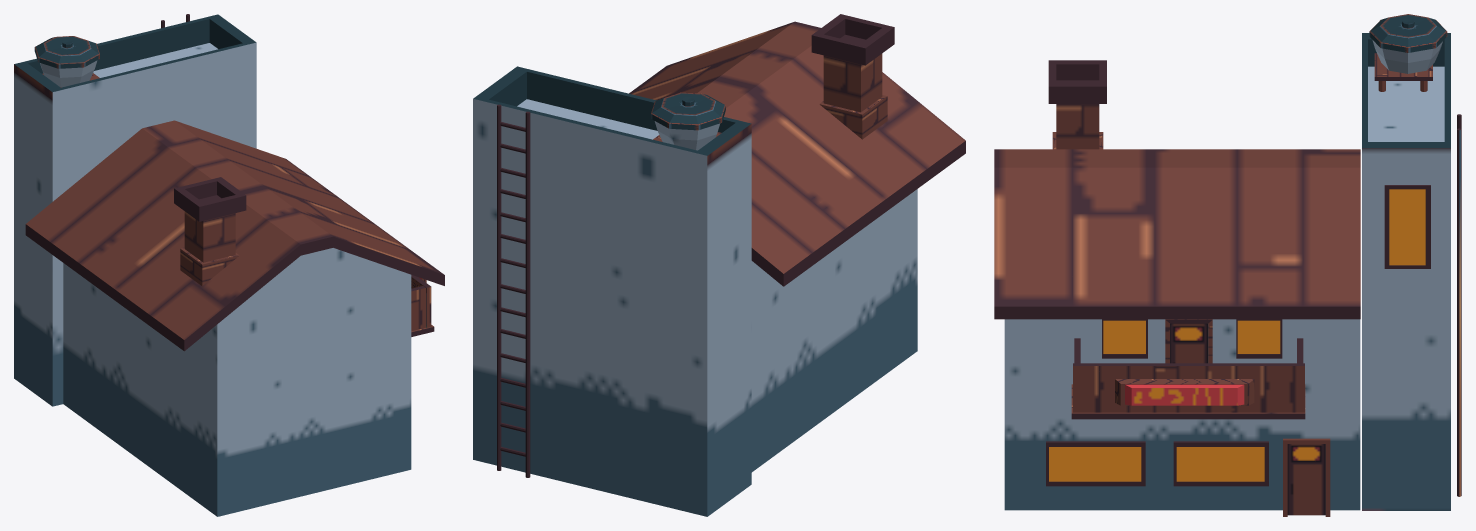
File: Casa4_Erick_2608.fbx
3 renders of one model, left to right at view 1: azimuth 30°, elevation 25°; view 2: azimuth 150°, elevation 25°; view 3: azimuth 270°, elevation 25°, orthographic. The views are drawn at different scales.
Visible parts, largest first — view 1: Casa4; view 2: Casa4; view 3: Casa4.
Boxes of the visible parts, box(x1,y1,x2,y2) form: Casa4: box(14, 14, 444, 516); Casa4: box(473, 14, 965, 516); Casa4: box(994, 14, 1461, 516).
Size of the model in its own units: 872 by 1015 by 956.
